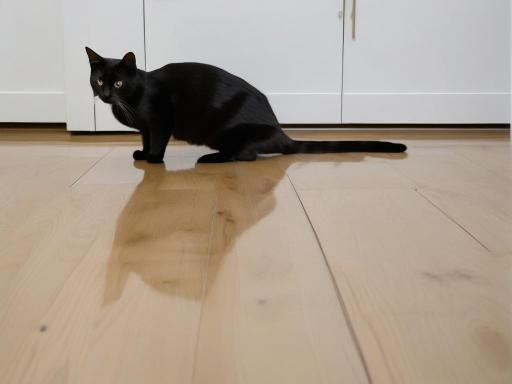cat_sitting: (86, 46, 406, 163)
